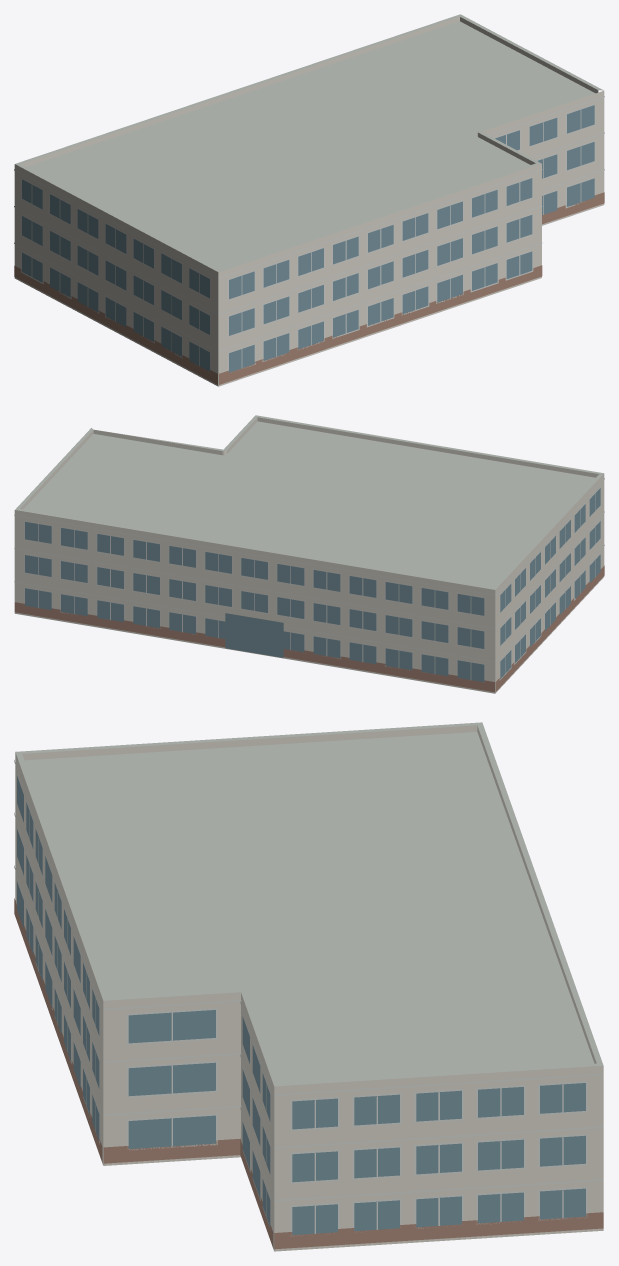
Rendered from public-07a3fe5e-b696-40d0-9f38-e04aa65e11e2.glb.
3 renders of one model, top to bottom at view 1: azimuth 30°, elevation 25°; view 2: azimuth 150°, elevation 25°; view 3: azimuth 270°, elevation 25°, orthographic. The views are drawn at different scales.
Visible parts, largest first — view 1: public-07a3fe5e-b696-40d0-9f38-e04aa65e11e2; view 2: public-07a3fe5e-b696-40d0-9f38-e04aa65e11e2; view 3: public-07a3fe5e-b696-40d0-9f38-e04aa65e11e2.
Boxes of the visible parts, <box> form: public-07a3fe5e-b696-40d0-9f38-e04aa65e11e2: <box>14,14,604,386</box>; public-07a3fe5e-b696-40d0-9f38-e04aa65e11e2: <box>14,415,604,693</box>; public-07a3fe5e-b696-40d0-9f38-e04aa65e11e2: <box>14,722,603,1251</box>.
Size of the model in its own units: 43.41 by 9.15 by 29.68.
